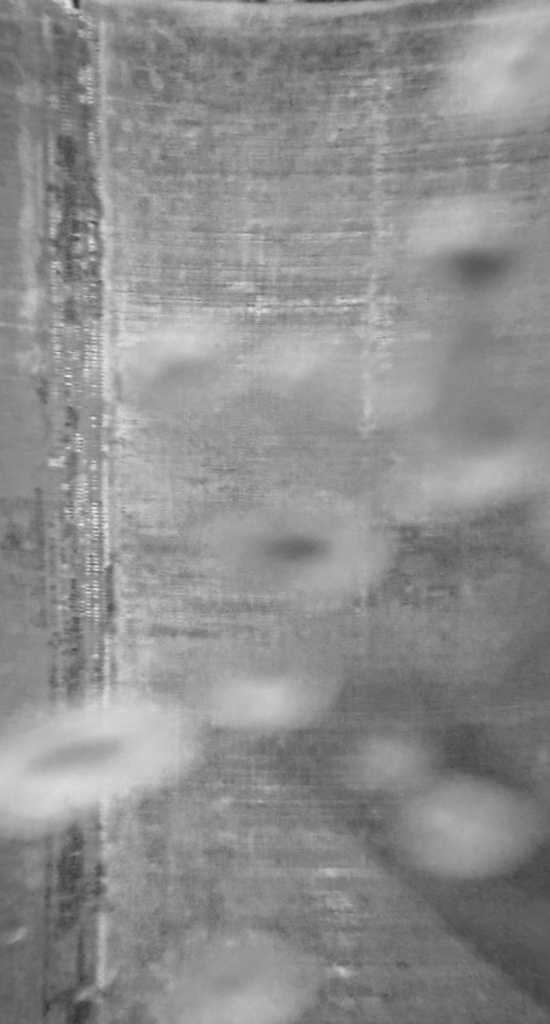splice: (27, 2, 124, 1024)
